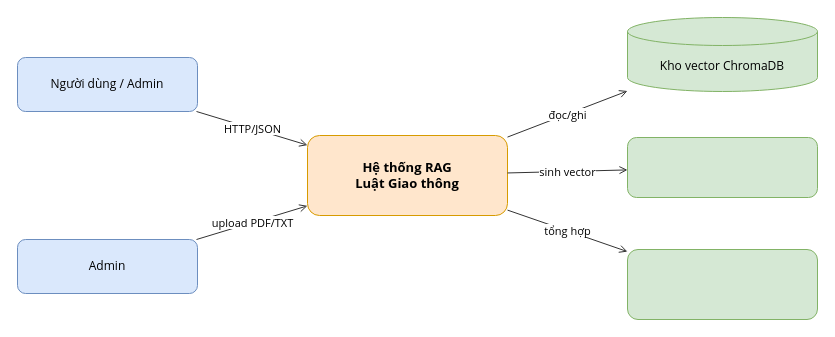
Image size: 835x337. Some labels were removed from this diagram. Each missing label, with the box of its shape:
Embedding e5-large (cục bộ): (626, 136, 818, 198)
LLM Groq / Mistral / Cohere / Gemini / Ollama: (626, 248, 818, 320)
